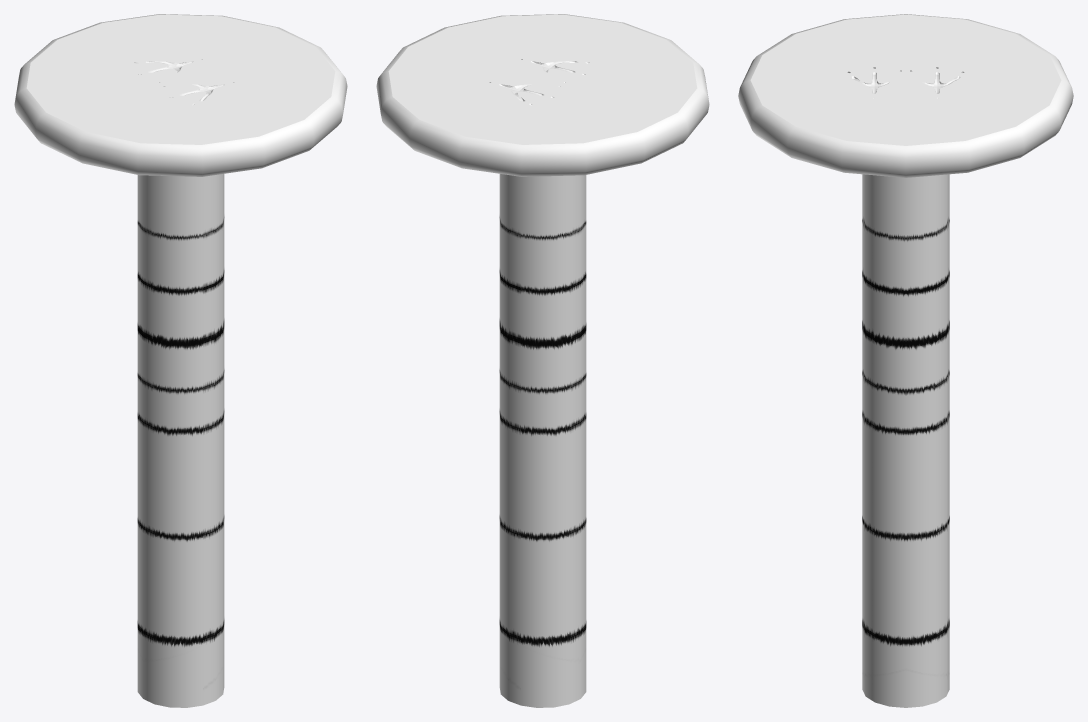
The model's file is Figuurhouder specht.fbx.
3 renders of one model, left to right at view 1: azimuth 30°, elevation 25°; view 2: azimuth 150°, elevation 25°; view 3: azimuth 270°, elevation 25°, orthographic.
Visible parts, largest first — view 1: Figuurhouder specht; view 2: Figuurhouder specht; view 3: Figuurhouder specht.
Boxes of the visible parts, x1,y1,x2,y2 form: Figuurhouder specht: [14, 14, 347, 707]; Figuurhouder specht: [376, 14, 709, 707]; Figuurhouder specht: [738, 14, 1073, 707].
Bounding box in the file's own units: 55.56 × 111 × 55.56.
Materials: 1 (1 with a texture image).
